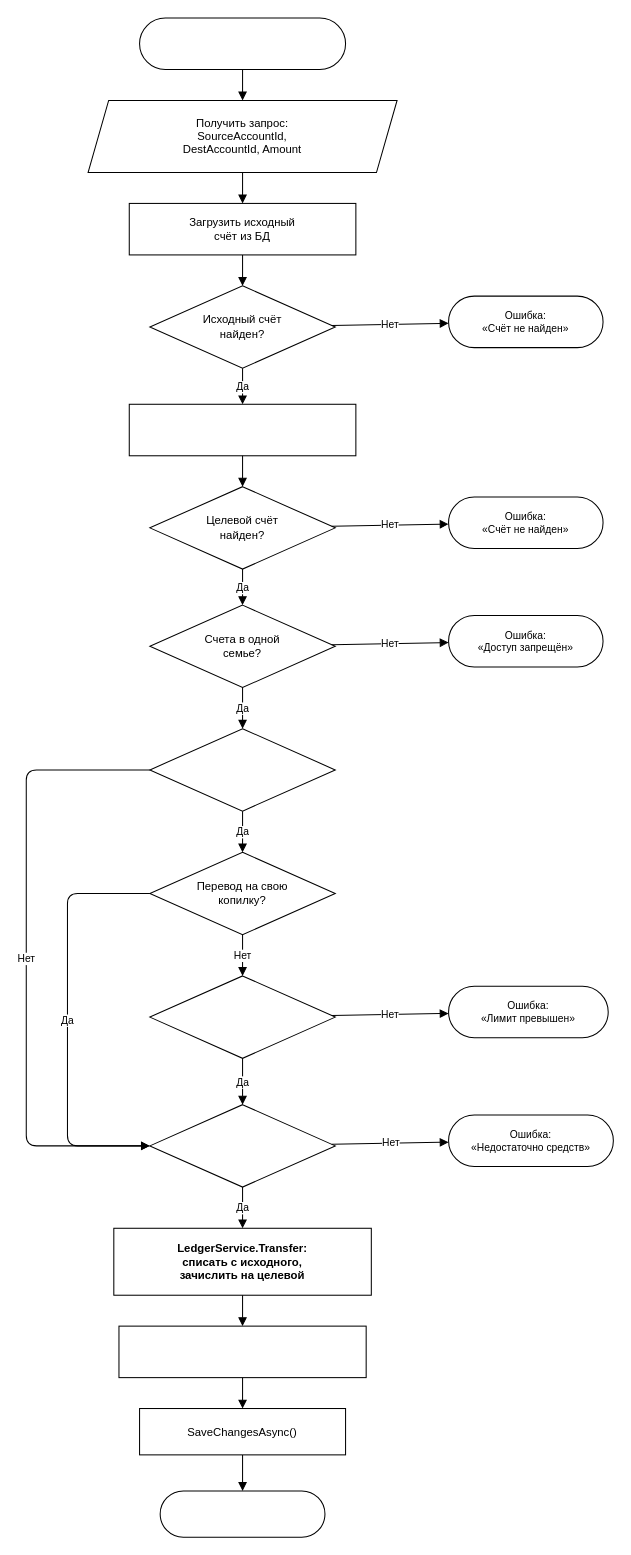
This 631x1555 diagram has some shape labels left out. Here are the shapes that lost their labels. From the top down, the centre of each, then its label:
At point (242, 43): "Начало".
At point (242, 429): "Загрузить целевой счёт из БД".
At point (242, 769): "Пользователь — ребёнок?".
At point (242, 1016): "Лимит расходов не превышен?".
At point (242, 1145): "Достаточно средств?".
At point (242, 1351): "Создать запись Transaction (тип Transfer)".
At point (242, 1513): "Конец".
